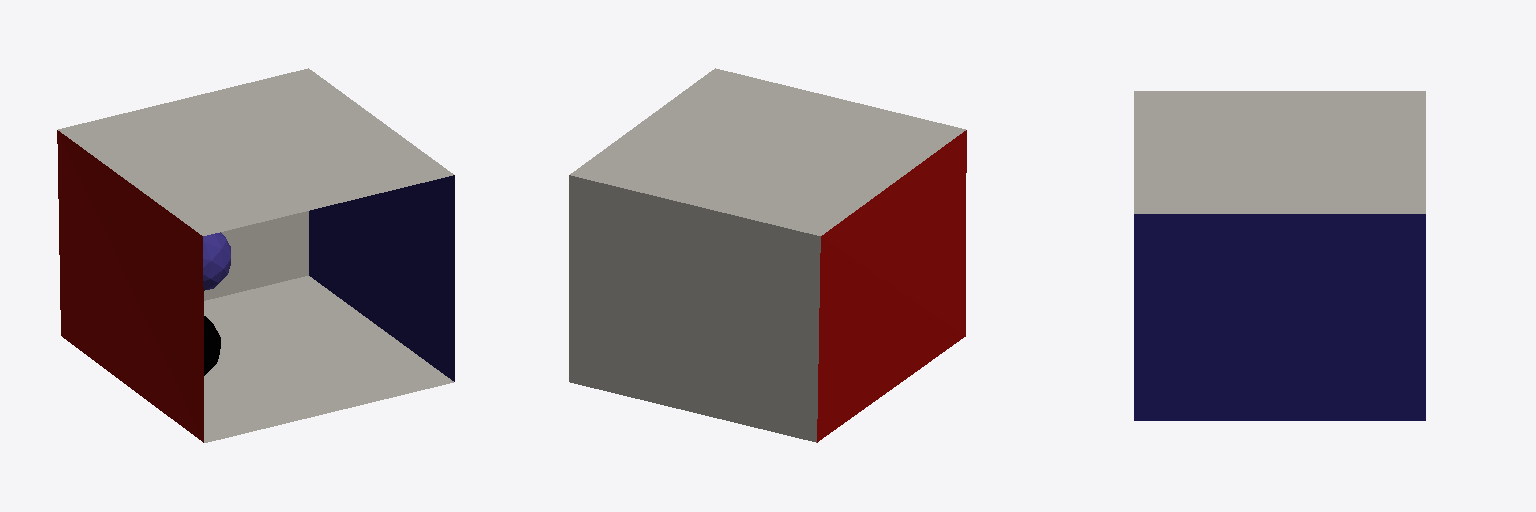
File: CornellBox-Sphere-811.obj
3 renders of one model, left to right at view 1: azimuth 30°, elevation 25°; view 2: azimuth 150°, elevation 25°; view 3: azimuth 270°, elevation 25°, orthographic.
Visible parts, largest first — view 1: ceiling, leftWall, floor, rightWall, backWall, leftSphere, rightSphere; view 2: backWall, ceiling, leftWall; view 3: rightWall, ceiling.
Part boxes in pixels (left/top/right/bottom): ceiling: left=58, top=68, right=453, bottom=235; leftWall: left=57, top=130, right=203, bottom=442; floor: left=204, top=276, right=453, bottom=442; rightWall: left=309, top=175, right=454, bottom=381; backWall: left=204, top=211, right=308, bottom=300; leftSphere: left=203, top=232, right=230, bottom=290; rightSphere: left=204, top=316, right=220, bottom=375; backWall: left=569, top=175, right=820, bottom=442; ceiling: left=570, top=68, right=965, bottom=235; leftWall: left=817, top=130, right=966, bottom=442; rightWall: left=1134, top=214, right=1425, bottom=420; ceiling: left=1134, top=91, right=1425, bottom=213.
Bounding box in the file's own units: 2.02 × 1.59 × 2.03.